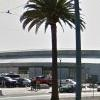Palm tree: (22, 0, 82, 85)
